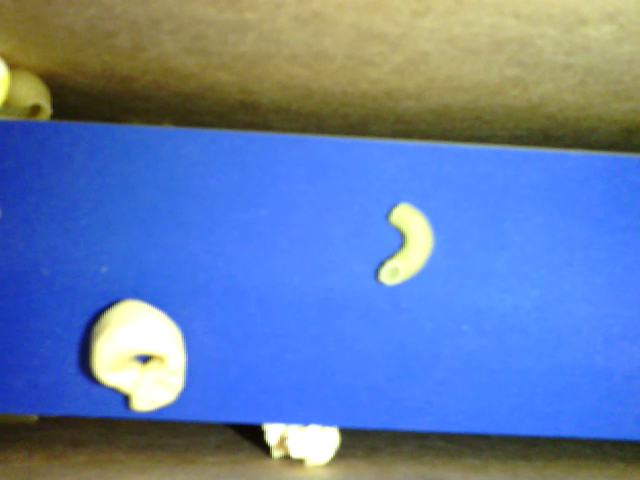elbow: (378, 196, 434, 286)
shell: (2, 62, 64, 129)
tortellini: (88, 296, 190, 410)
